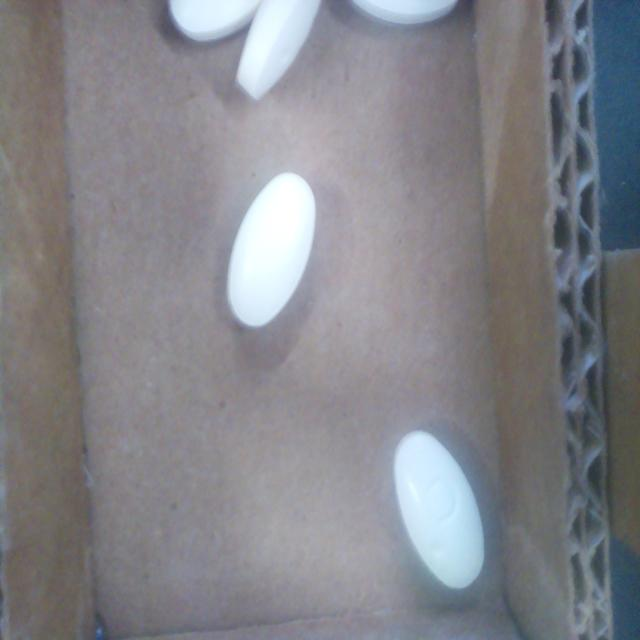pill: (394, 431, 484, 589), (227, 173, 316, 328), (236, 0, 320, 100), (168, 0, 260, 41), (351, 0, 458, 25)
